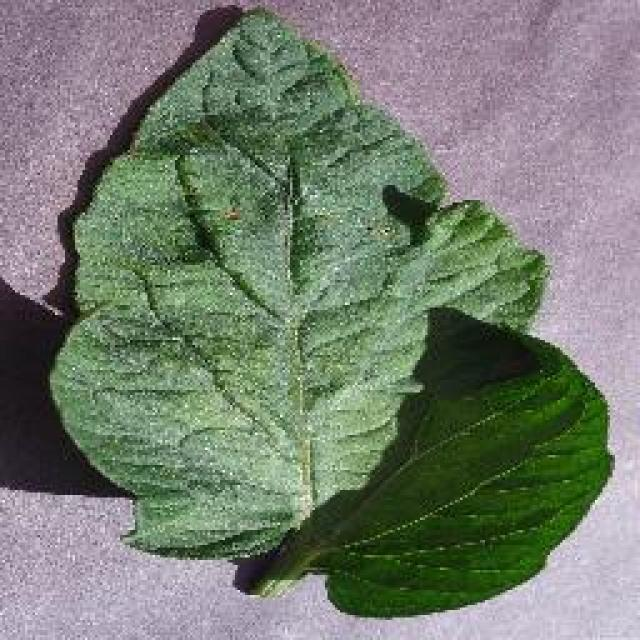Tomato Septoria spot leaf: (48, 14, 618, 618)
